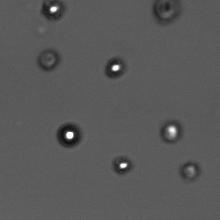Dead Cell: (152, 1, 183, 24), (37, 48, 60, 70)
Living Cell: (54, 122, 84, 149), (161, 118, 182, 145), (104, 57, 127, 78), (41, 1, 65, 20), (113, 156, 136, 175), (180, 162, 200, 180)
